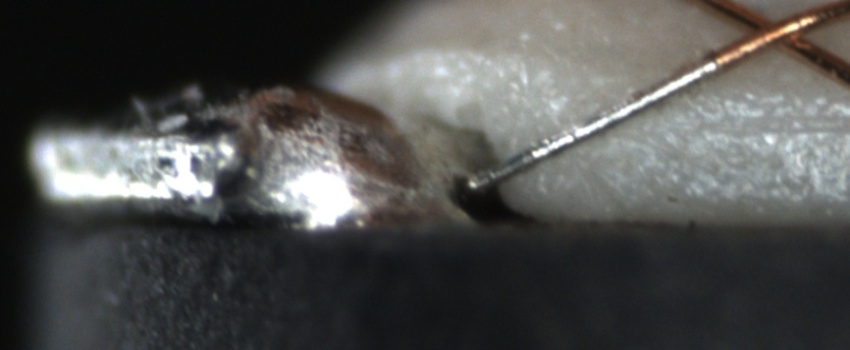CL: (722, 2, 825, 60)
DL: (649, 92, 850, 156)
TS: (468, 57, 719, 192)
